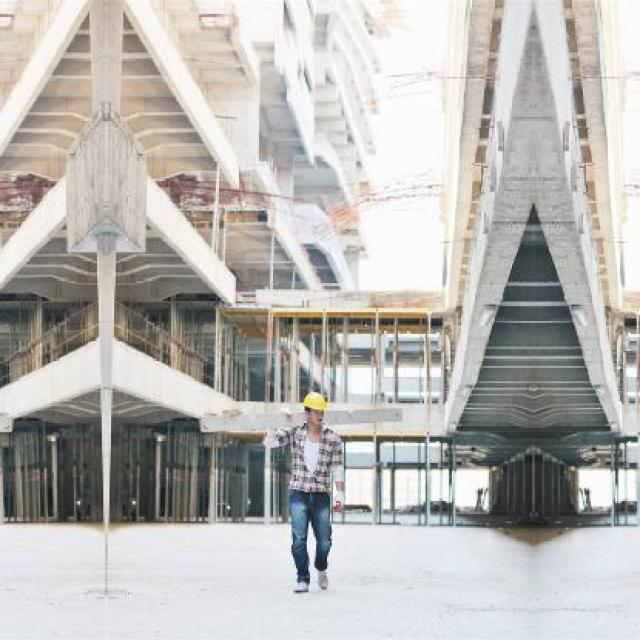helmet: (300, 390, 325, 424)
